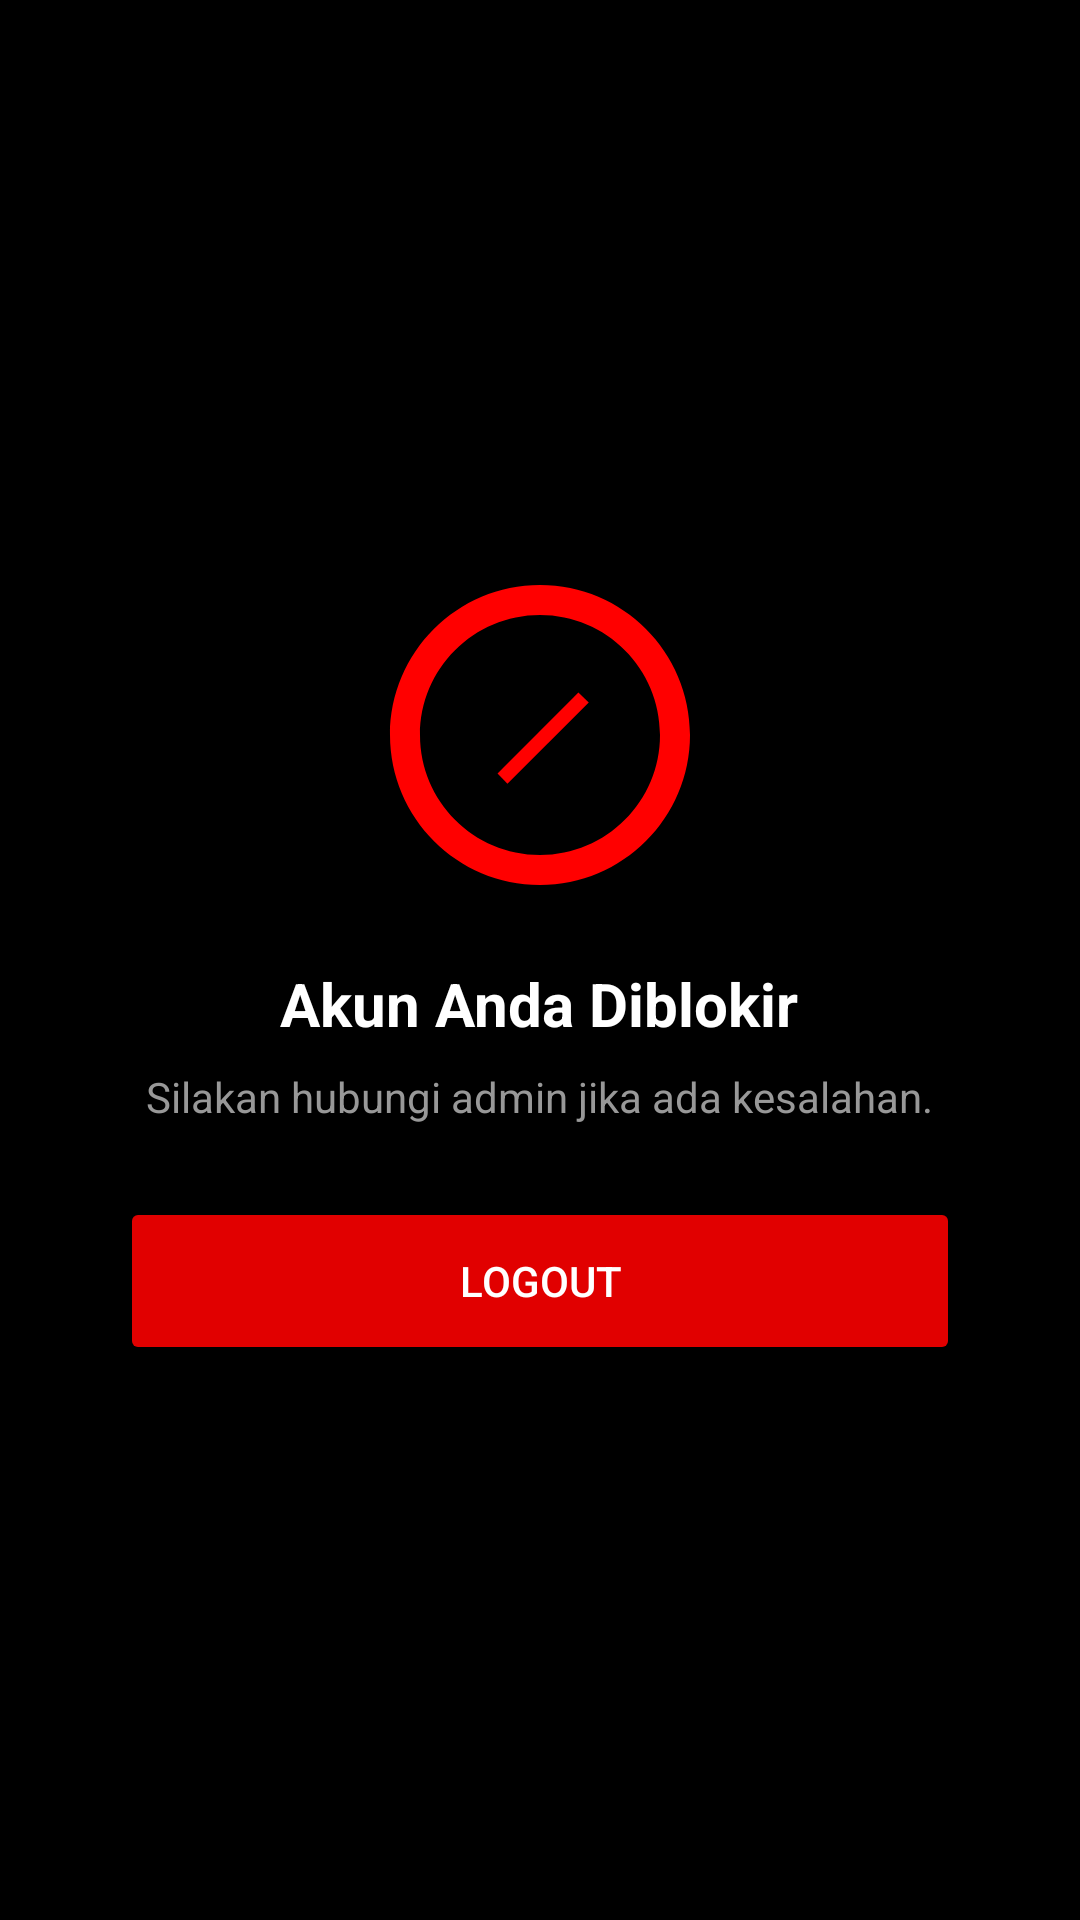

Locate icon controls on the screen. Image size 1080px×1920px, boxes as (x1, y1, x2, y2).
block: (390, 585, 690, 885)
